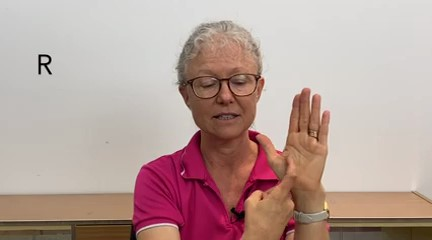R: (235, 83, 339, 240)
